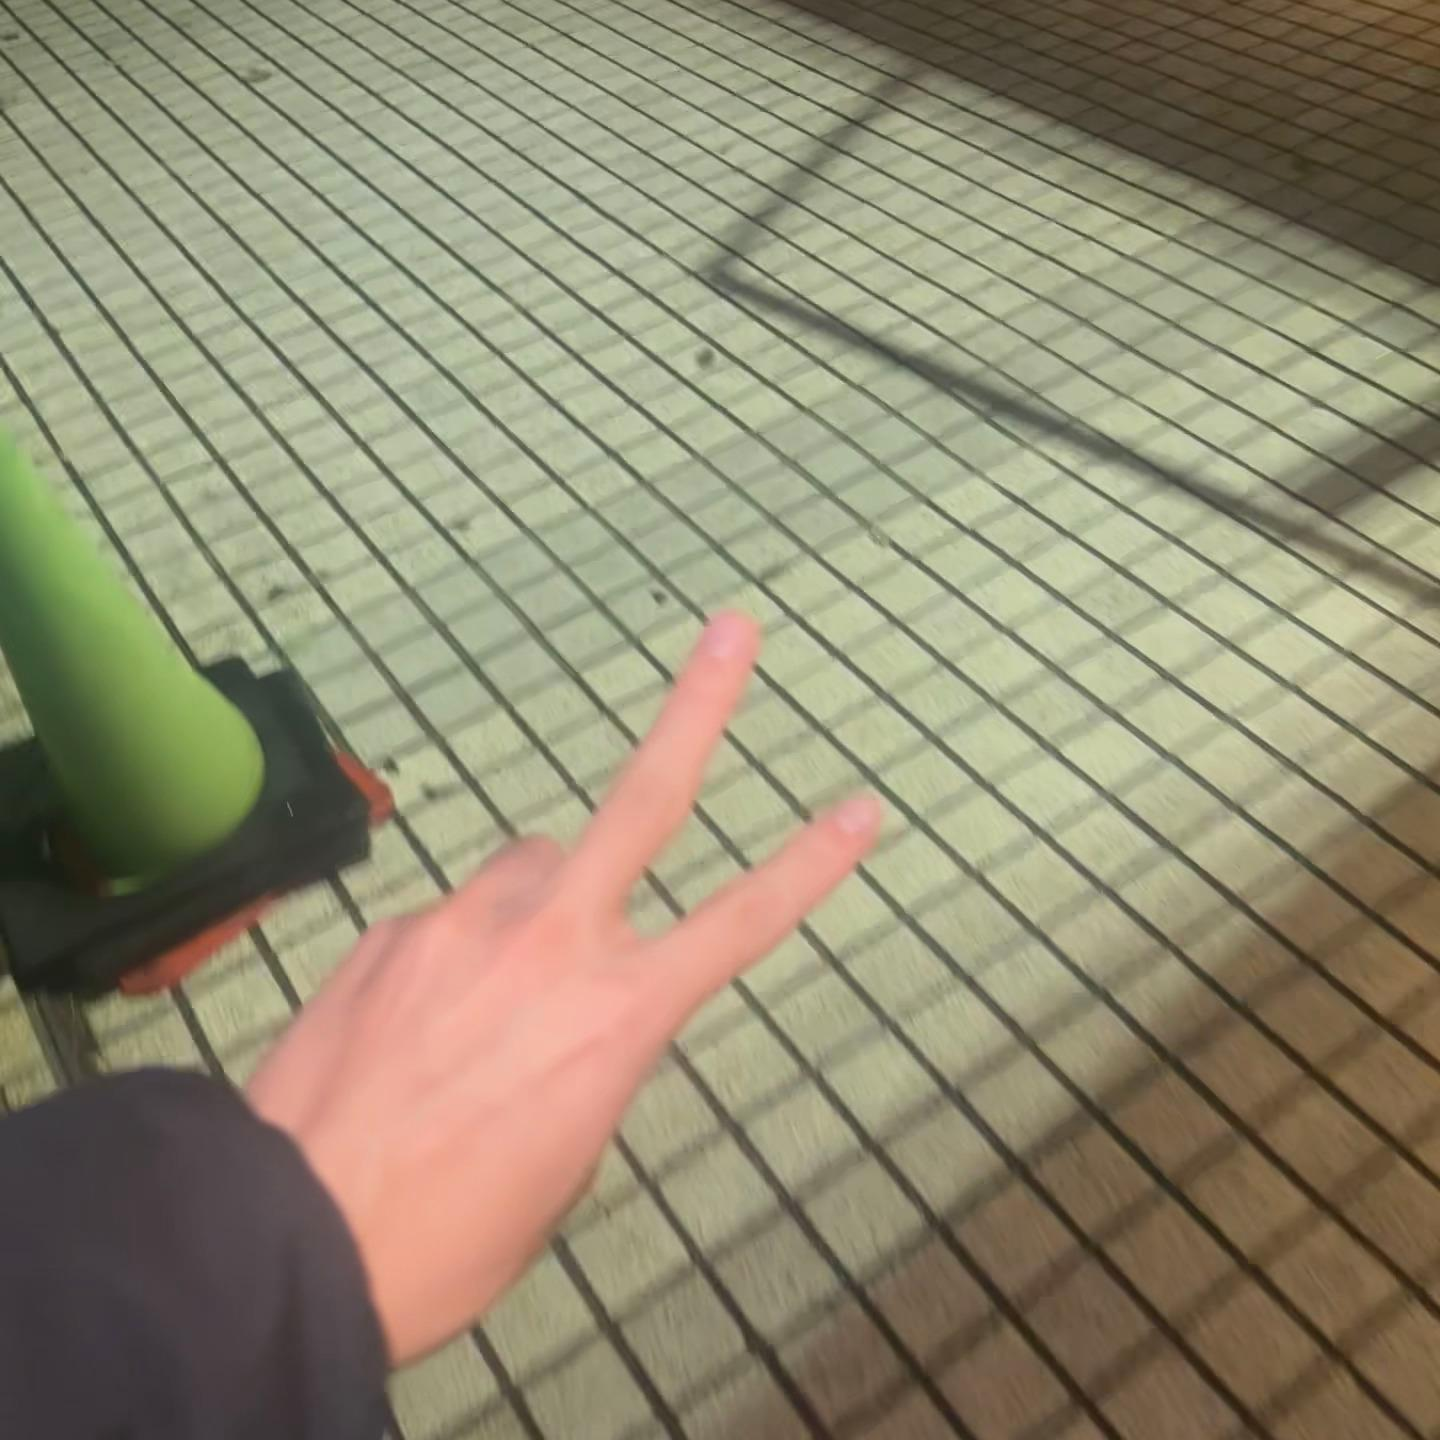without_gloves: (262, 451, 1047, 1311)
